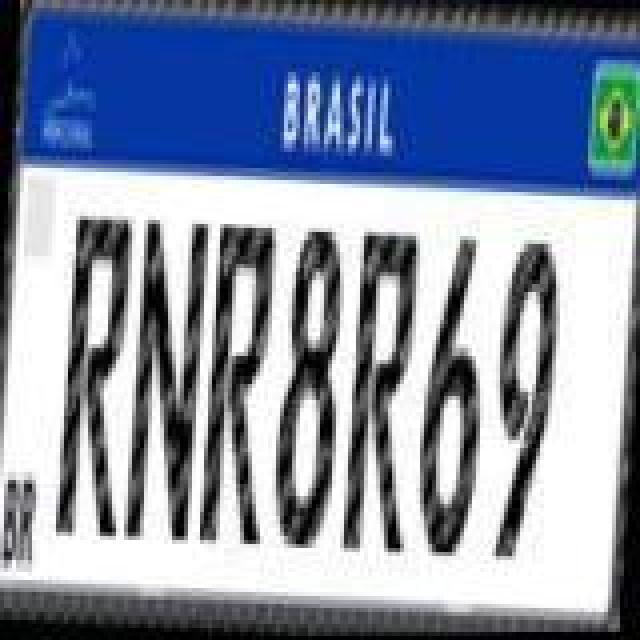6: (414, 230, 498, 566)
8: (270, 222, 354, 554)
9: (482, 234, 566, 570)
N: (124, 216, 212, 540)
R: (196, 218, 284, 554), (52, 212, 140, 536), (342, 232, 426, 560)
